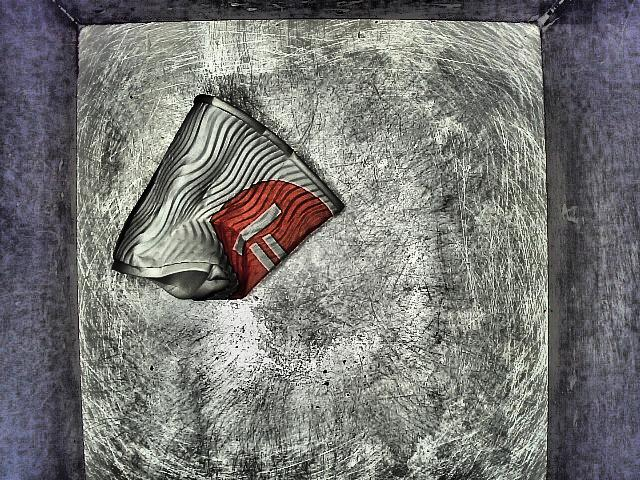Paper: (100, 86, 353, 315)
